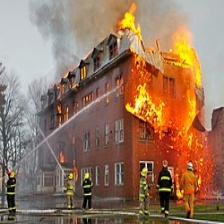fire: (168, 27, 218, 192), (126, 66, 168, 128), (116, 8, 144, 43)
smoke: (26, 1, 121, 58)
